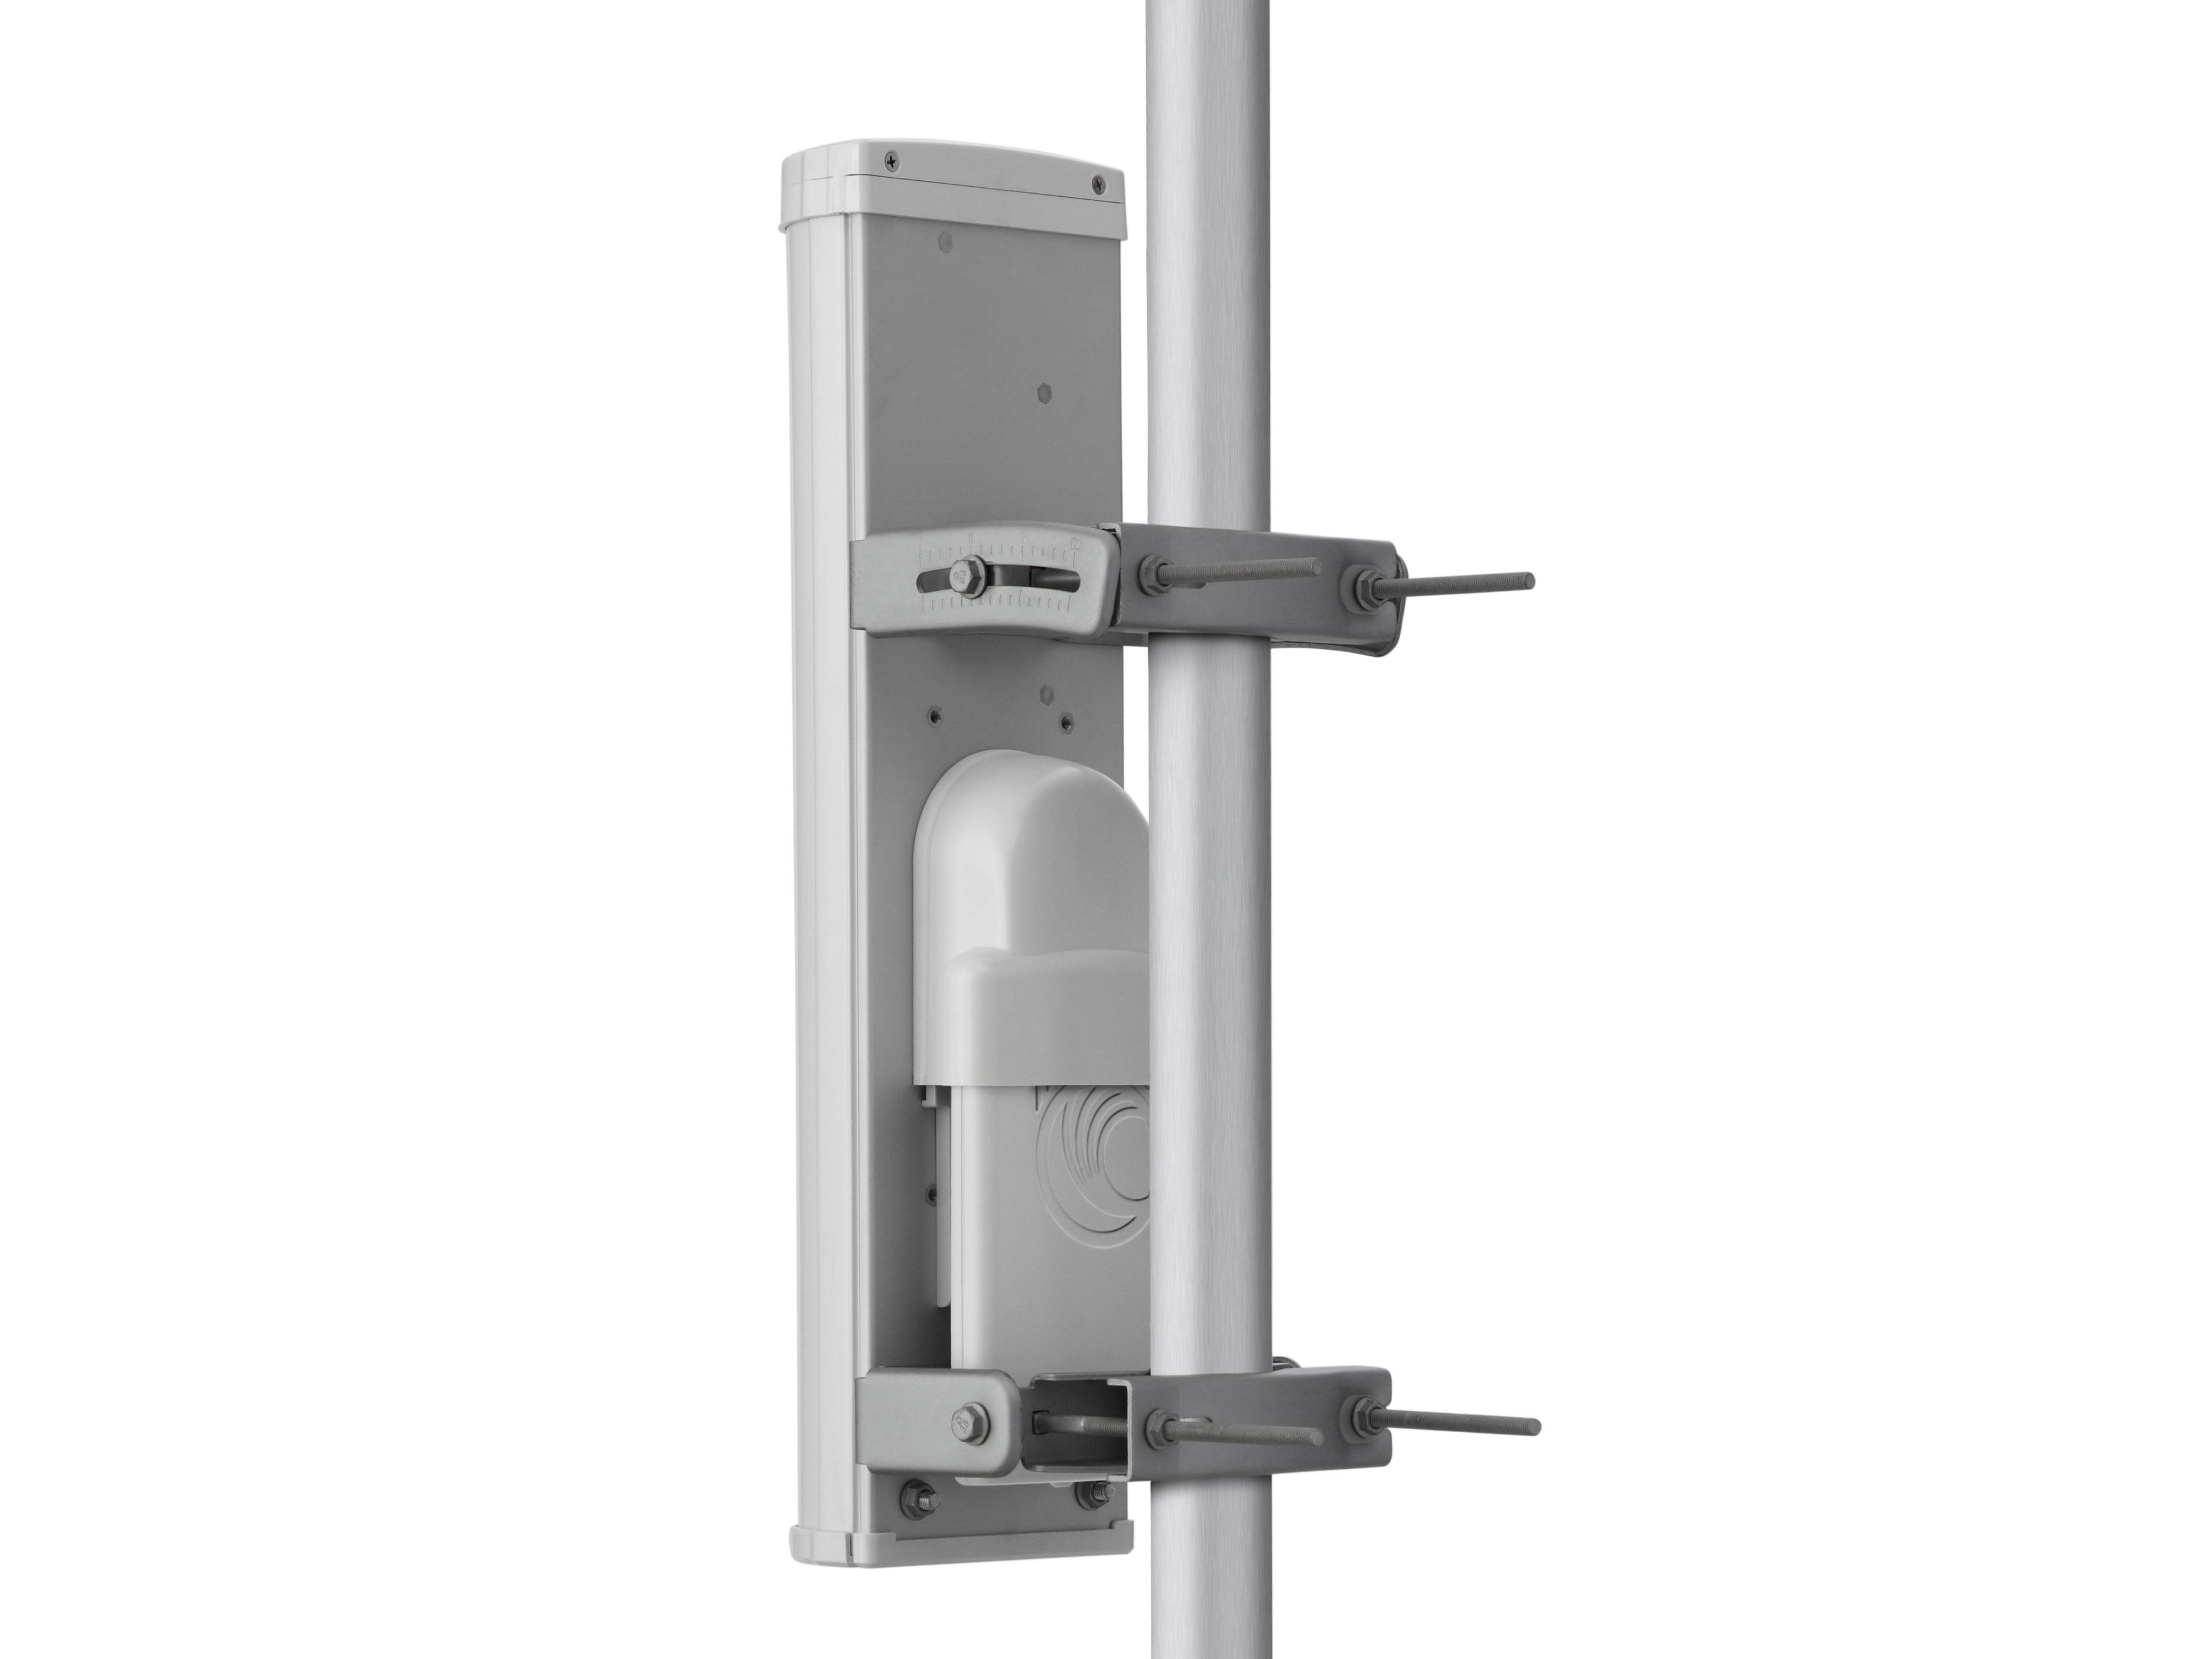sa: (732, 110, 1332, 1593)
